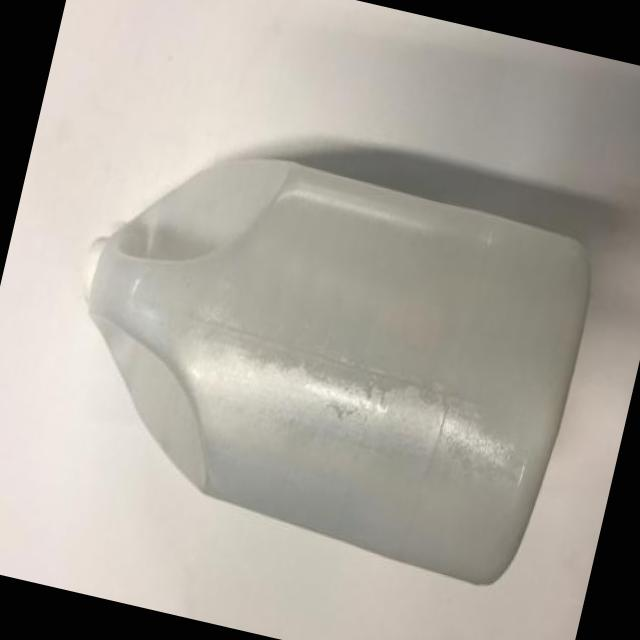Recycle: (31, 114, 604, 598)
